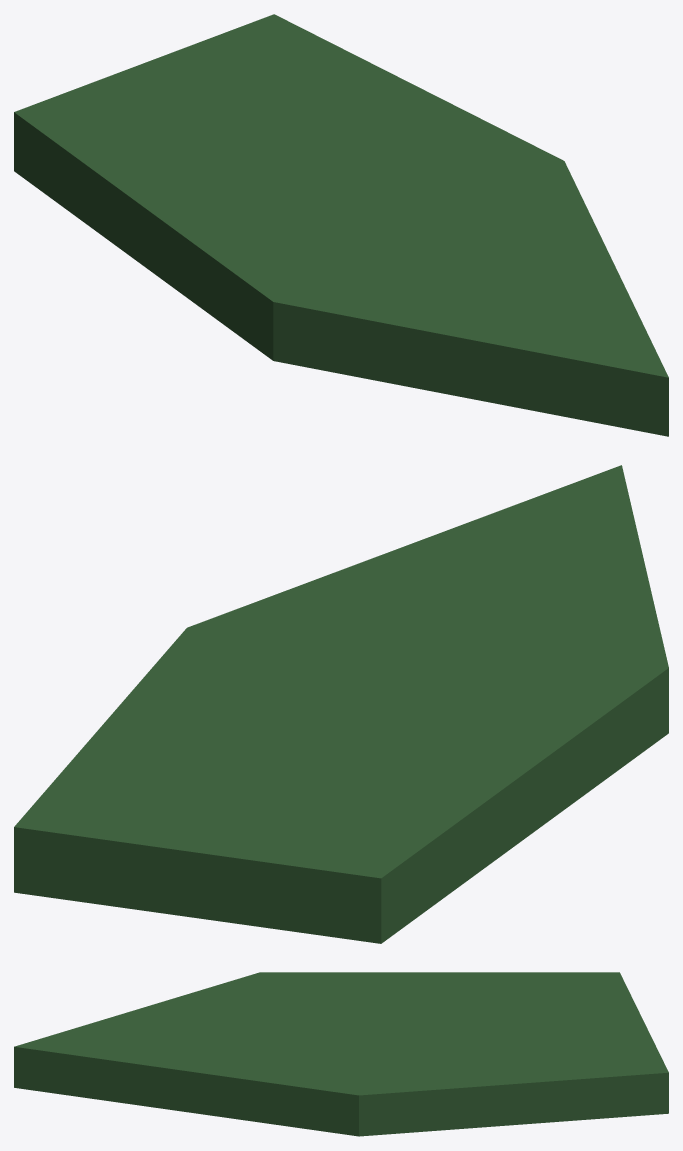
Rendered from x_proval_00_200_1_rmstrd.fbx.
The picture shows the model from 3 angles, top to bottom: view 1: azimuth 30°, elevation 25°; view 2: azimuth 150°, elevation 25°; view 3: azimuth 270°, elevation 25°; orthographic projection. The views are drawn at different scales.
Visible parts, largest first — view 1: x_proval_00_200_1_rmstrd1; view 2: x_proval_00_200_1_rmstrd1; view 3: x_proval_00_200_1_rmstrd1.
Boxes of the visible parts, x1,y1,x2,y2 form: x_proval_00_200_1_rmstrd1: (14,14,668,436); x_proval_00_200_1_rmstrd1: (14,465,668,943); x_proval_00_200_1_rmstrd1: (14,972,668,1136).
Bounding box in the file's own units: 1.29 × 0.2 × 2.89.
